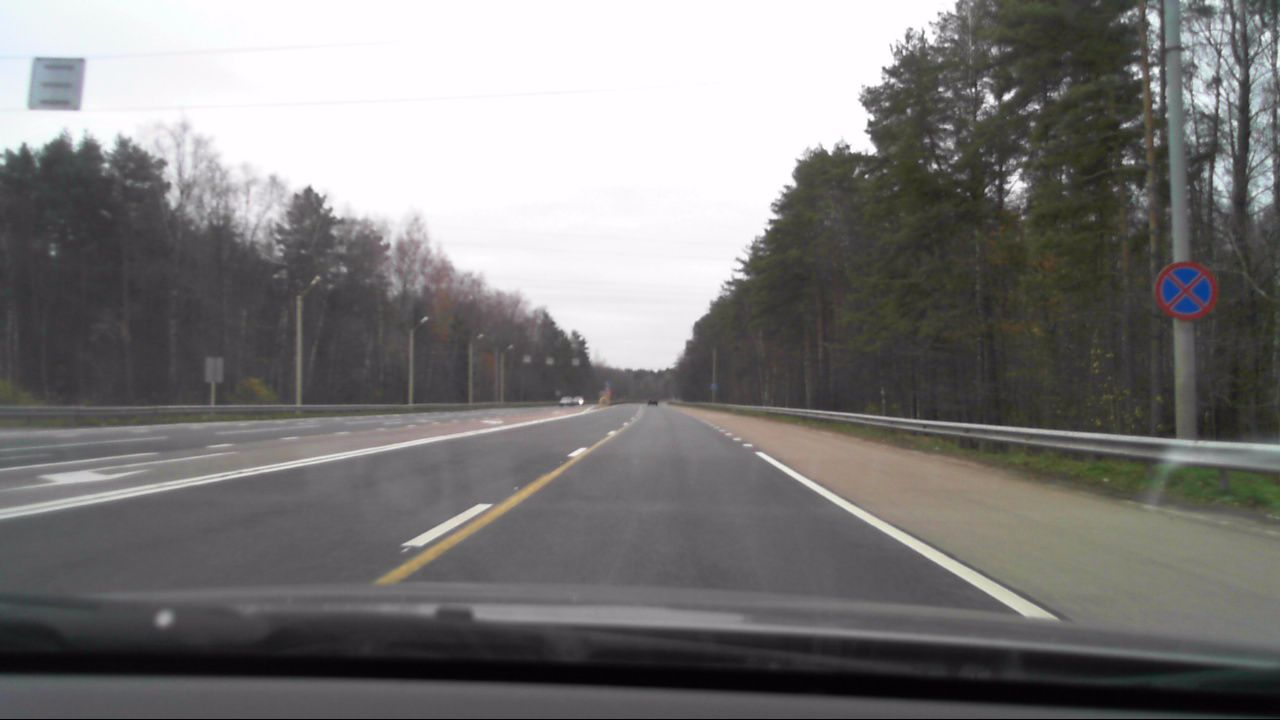No Parking: (1157, 260, 1212, 322)
